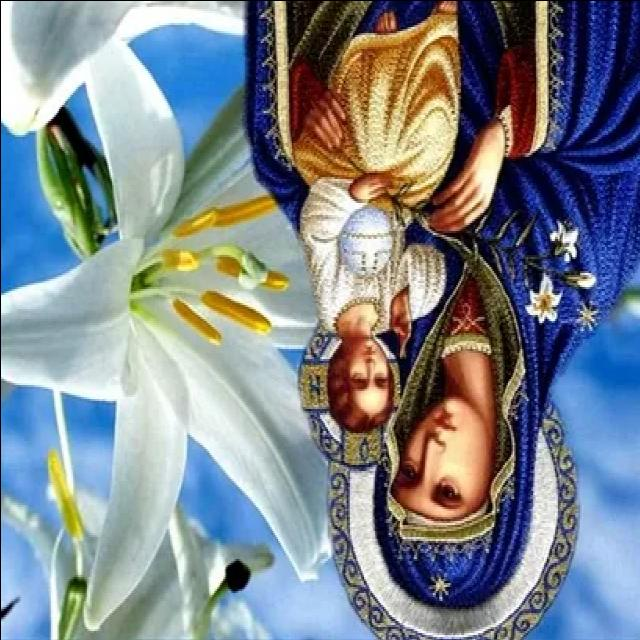mother of god: (240, 0, 640, 620)
